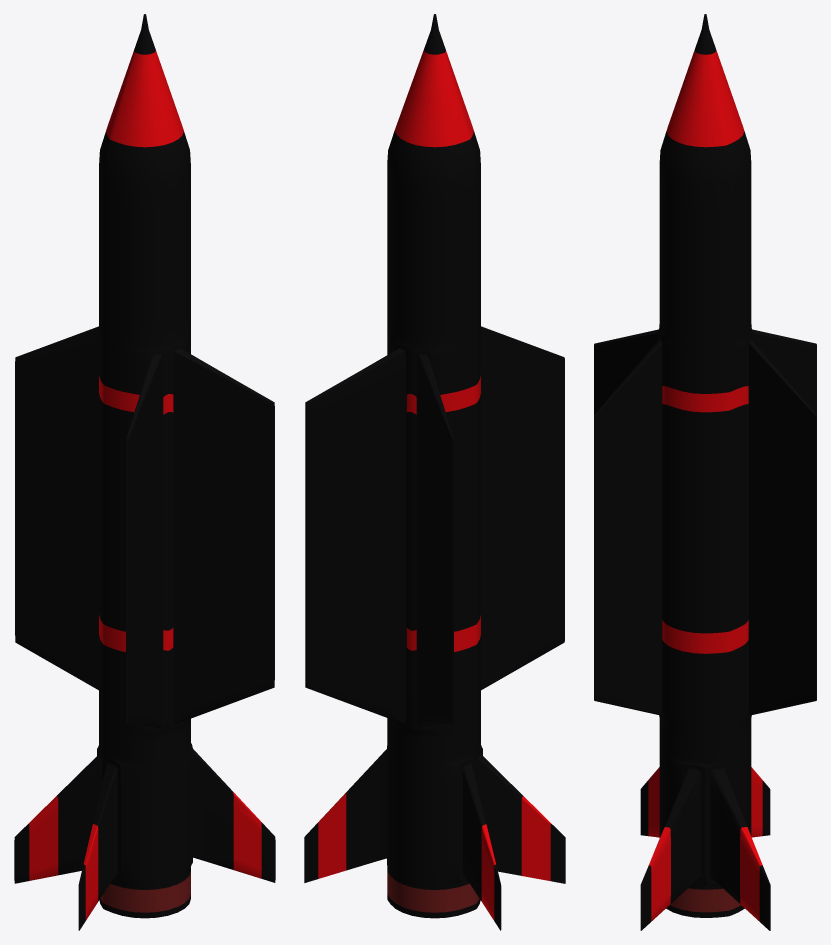
The model's file is missiles1.fbx.
3 views of the same model, side by side, from view 1: azimuth 30°, elevation 25°; view 2: azimuth 150°, elevation 25°; view 3: azimuth 270°, elevation 25° (orthographic).
Visible parts, largest first — view 1: Cylinder.002; view 2: Cylinder.002; view 3: Cylinder.002.
Part boxes in pixels (box(x1,y1,x2,y2)): Cylinder.002: box(14, 14, 275, 930); Cylinder.002: box(304, 14, 565, 930); Cylinder.002: box(594, 14, 816, 930).
Size of the model in its own units: 693 by 2980 by 681.
